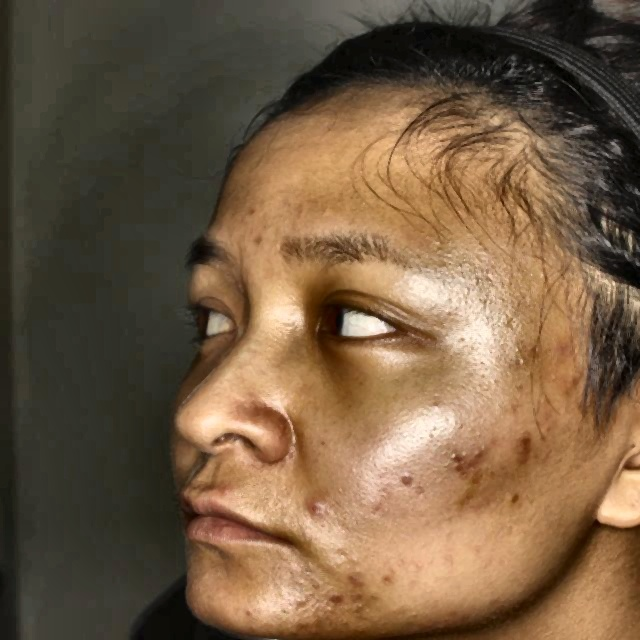pustule: (339, 568, 376, 600), (500, 431, 539, 458), (399, 456, 426, 491), (558, 363, 584, 397), (300, 498, 336, 520), (552, 337, 582, 354), (318, 585, 338, 610), (448, 448, 465, 476), (462, 468, 481, 492), (470, 442, 489, 461)
